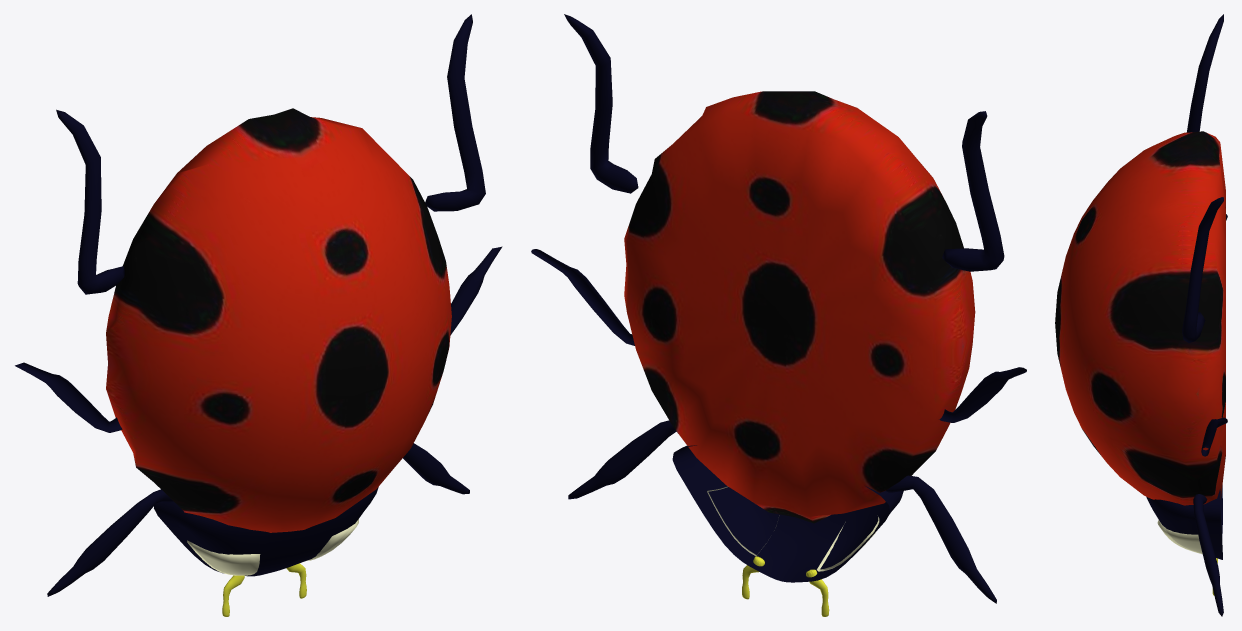
The model's file is LBug Obj MatTxt.obj.
The picture shows the model from 3 angles, left to right: view 1: azimuth 30°, elevation 25°; view 2: azimuth 150°, elevation 25°; view 3: azimuth 270°, elevation 25°; orthographic projection. The views are drawn at different scales.
Parts seen in each view (by area): view 1: objobjLadybug_Body_3, objobjLeg_rear3, objobjHead_3, objobjLeg_front_3, objobjLeg_middle_3, objLBug_eyes3, objobjAntenea_3; view 2: objobjLadybug_Body_3, objobjHead_3, objobjLeg_rear3, objobjLeg_front_3, objobjLeg_middle_3, objobjAntenea_3; view 3: objobjLadybug_Body_3, objobjLeg_rear3, objobjHead_3, objobjLeg_front_3, objLBug_eyes3, objobjLeg_middle_3.
Boxes of the visible parts, x1=… form: objobjLadybug_Body_3: x1=106, y1=108, x2=451, y2=532; objobjLeg_rear3: x1=56, y1=14, x2=485, y2=294; objobjHead_3: x1=154, y1=487, x2=378, y2=576; objobjLeg_front_3: x1=47, y1=443, x2=469, y2=596; objobjLeg_middle_3: x1=15, y1=246, x2=502, y2=432; objLBug_eyes3: x1=187, y1=519, x2=358, y2=575; objobjAntenea_3: x1=222, y1=563, x2=306, y2=616; objobjLadybug_Body_3: x1=624, y1=91, x2=975, y2=523; objobjHead_3: x1=672, y1=445, x2=903, y2=582; objobjLeg_rear3: x1=564, y1=14, x2=1004, y2=271; objobjLeg_front_3: x1=568, y1=420, x2=996, y2=603; objobjLeg_middle_3: x1=531, y1=249, x2=1026, y2=422; objobjAntenea_3: x1=742, y1=556, x2=829, y2=616; objobjLadybug_Body_3: x1=1055, y1=131, x2=1225, y2=505; objobjLeg_rear3: x1=1182, y1=14, x2=1223, y2=342; objobjHead_3: x1=1146, y1=485, x2=1222, y2=559; objobjLeg_front_3: x1=1193, y1=494, x2=1223, y2=616; objLBug_eyes3: x1=1157, y1=520, x2=1202, y2=554; objobjLeg_middle_3: x1=1201, y1=214, x2=1227, y2=456.
Bounding box in the file's own units: 637 × 678 × 222.
Materials: 4 (1 with a texture image).
